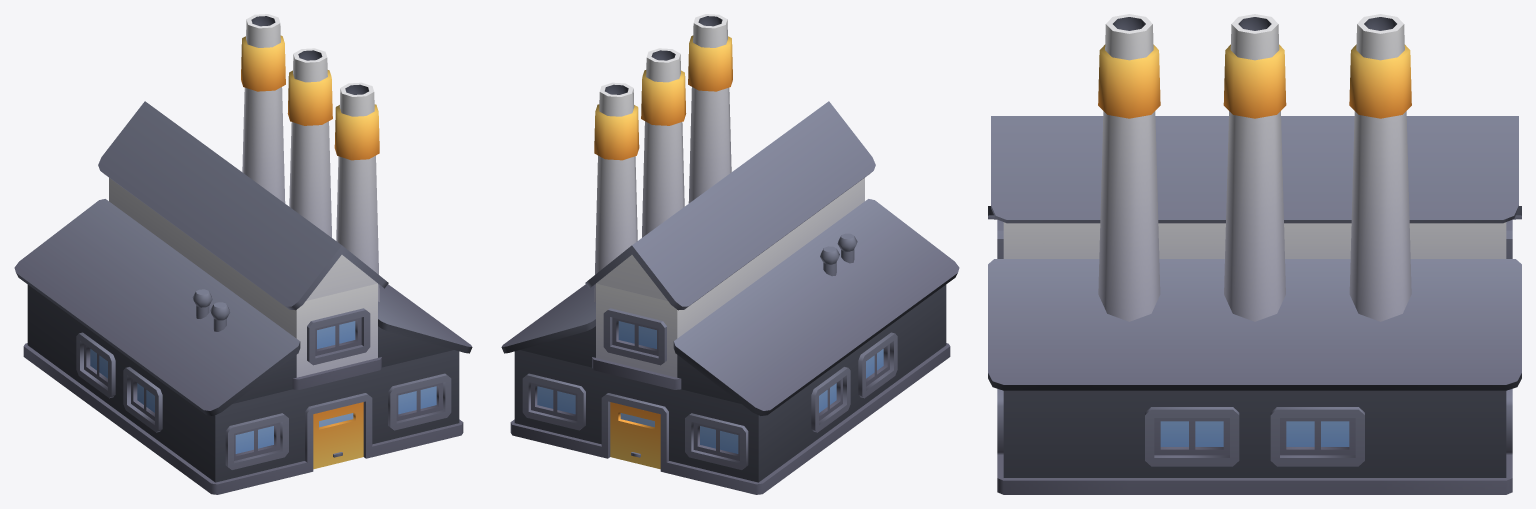
Rendered from warehouse_5.fbx.
3 views of the same model, side by side, from view 1: azimuth 30°, elevation 25°; view 2: azimuth 150°, elevation 25°; view 3: azimuth 270°, elevation 25° (orthographic). The views are drawn at different scales.
Visible parts, largest first — view 1: warehouse_5; view 2: warehouse_5; view 3: warehouse_5.
Part boxes in pixels (x1,y1,x2,y2): warehouse_5: [14, 14, 472, 494]; warehouse_5: [501, 14, 959, 494]; warehouse_5: [988, 14, 1521, 494].
Bounding box in the file's own units: 1.32 × 1.52 × 1.7.
2 materials, 2 textured.
